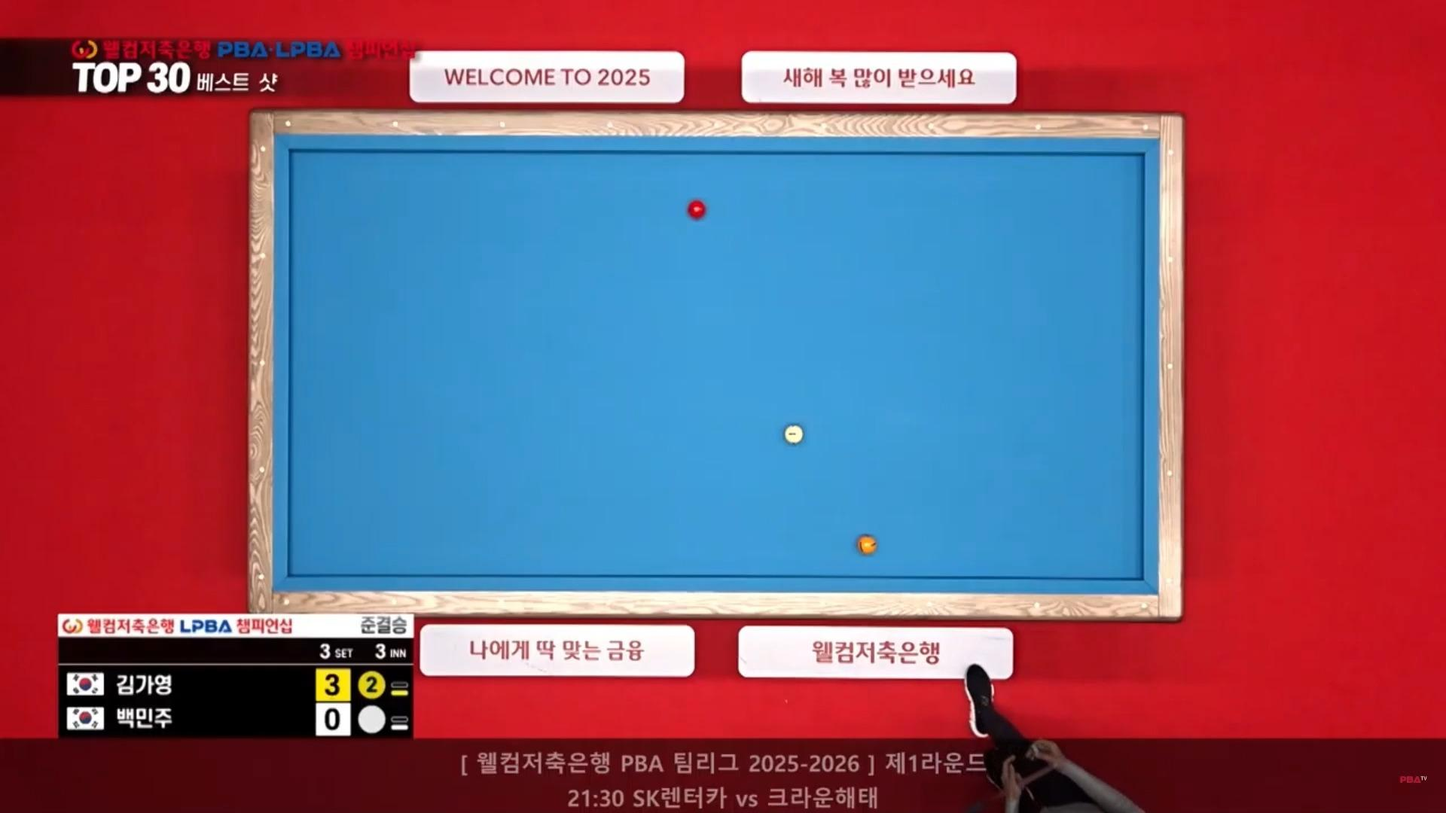Red: (687, 202, 711, 221), (682, 200, 706, 218)
White: (784, 426, 808, 446)
Yellow: (857, 536, 881, 554)
